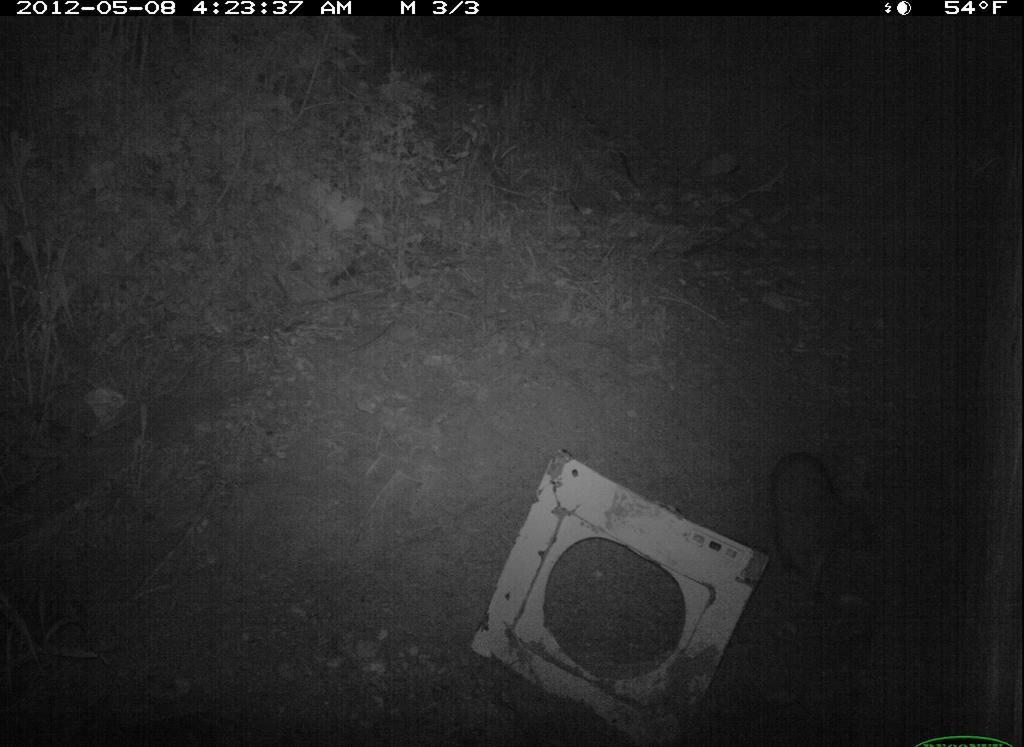raccoon: (757, 440, 885, 605)
